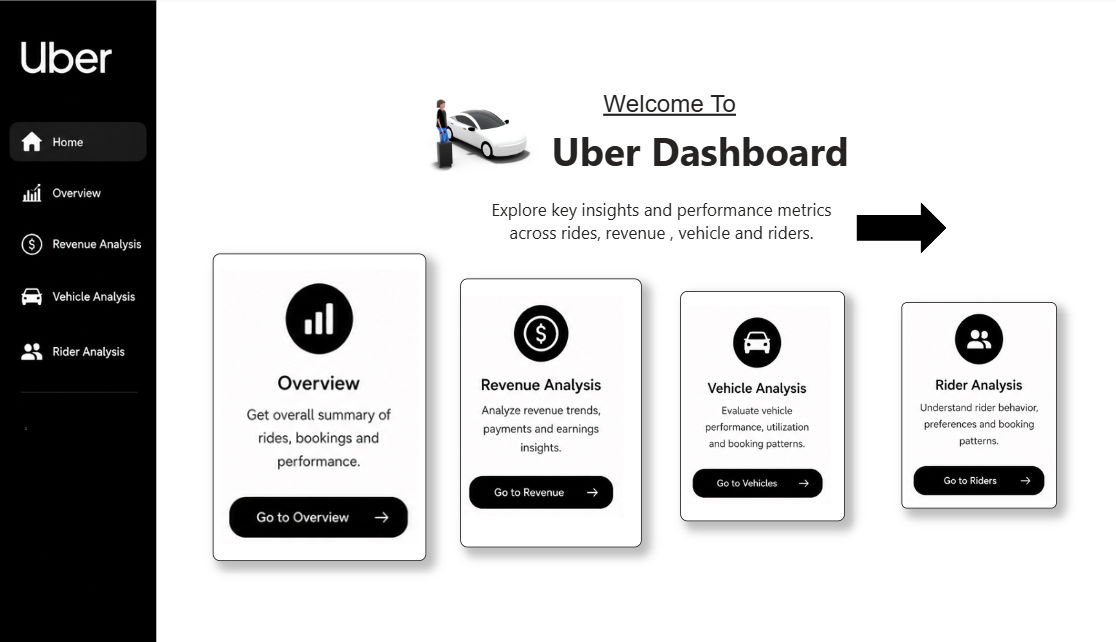

Layout of this report page (visuals, bound fields, positions):
{"tool":"powerbi","page":{"name":"Front_Page","canvas":[1280,720],"ordinal":1},"visuals":[{"type":"actionButton","box":[0,0,100,40],"z":0},{"type":"textbox","box":[256.3,281.7,184.7,39.4],"z":0,"group":"g1"},{"type":"group","id":"g1","title":"Group 1","box":[187.8,281.6,252.9,39.4],"z":1000},{"type":"shape","box":[187.8,281.6,37.9,39.4],"z":1000,"group":"g1"},{"type":"actionButton","box":[255.9,281.6,222.6,46.9],"z":2000}]}

Visuals, with their boxes in screenshot pixels (x1, y1, x2, y2), scaled from the page's 1280x720 canvas onto the 1116x642 screenshot:
actionButton: [x1=0, y1=0, x2=87, y2=36]
textbox: [x1=223, y1=251, x2=384, y2=286]
"Group 1" group: [x1=164, y1=251, x2=384, y2=286]
shape: [x1=164, y1=251, x2=197, y2=286]
actionButton: [x1=223, y1=251, x2=417, y2=293]
